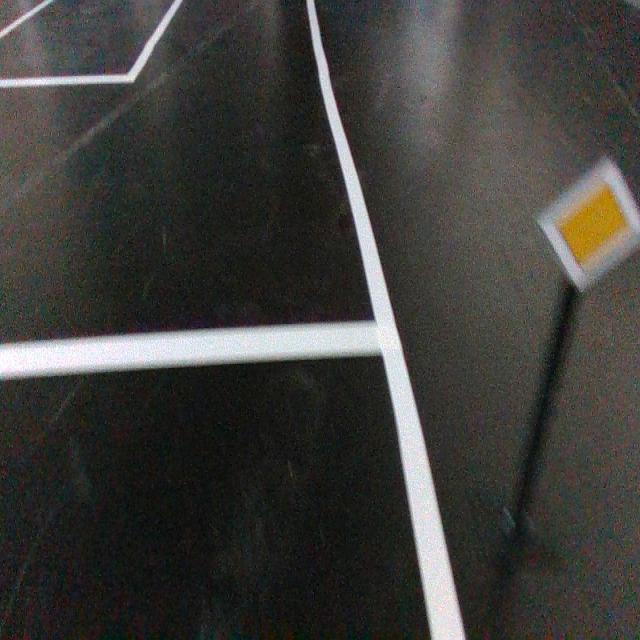priority-sign: (536, 154, 640, 294)
